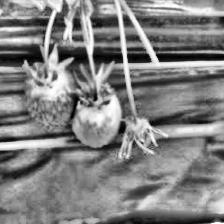Gray Mold: (119, 108, 169, 159)
